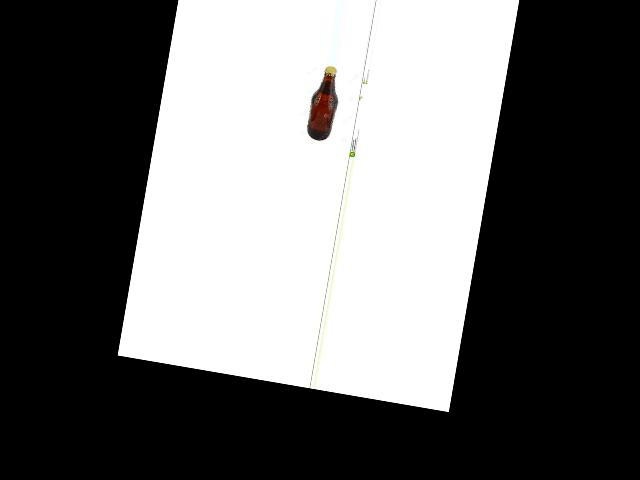beer: (305, 64, 344, 142)
